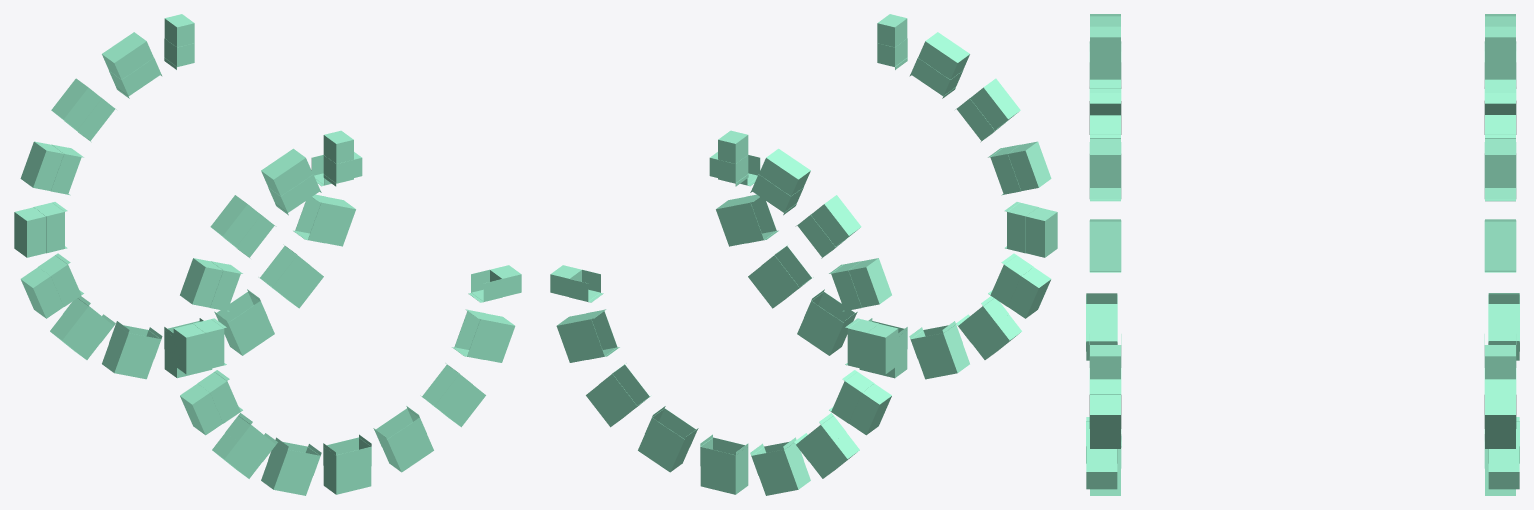
The model's file is Serv-Muon-Barrel-Calo-Ele-Boxes-cut3.glb.
3 views of the same model, side by side, from view 1: azimuth 30°, elevation 25°; view 2: azimuth 150°, elevation 25°; view 3: azimuth 270°, elevation 25° (orthographic). The views are drawn at different scales.
Visible parts, largest first — view 1: Electrical Boxes Barrel cut3; view 2: Electrical Boxes Barrel cut3; view 3: Electrical Boxes Barrel cut3.
Boxes of the visible parts, bbox=[...] form: Electrical Boxes Barrel cut3: bbox=[14, 14, 521, 495]; Electrical Boxes Barrel cut3: bbox=[550, 14, 1057, 495]; Electrical Boxes Barrel cut3: bbox=[1086, 14, 1519, 495].
Bounding box in the file's own units: 7.57 × 7.58 × 6.85.
